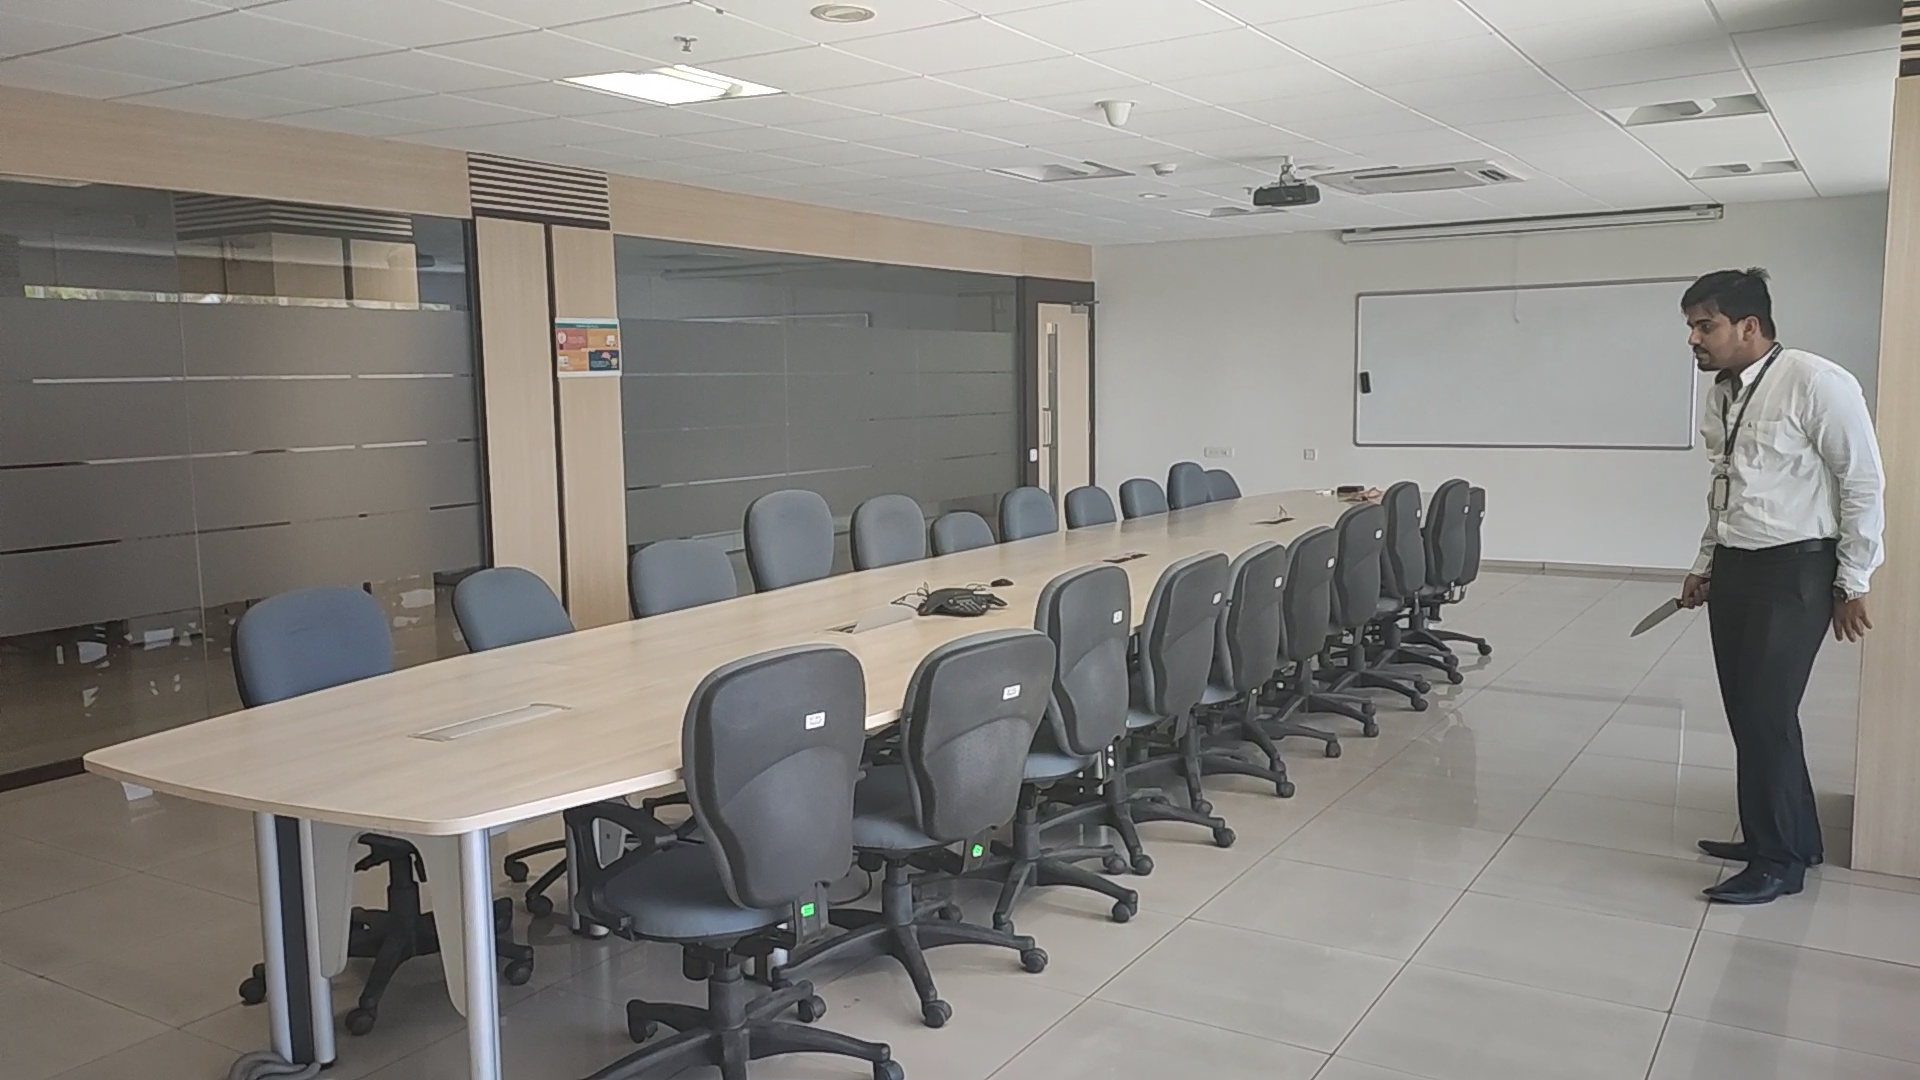knife: (1629, 593, 1683, 640)
